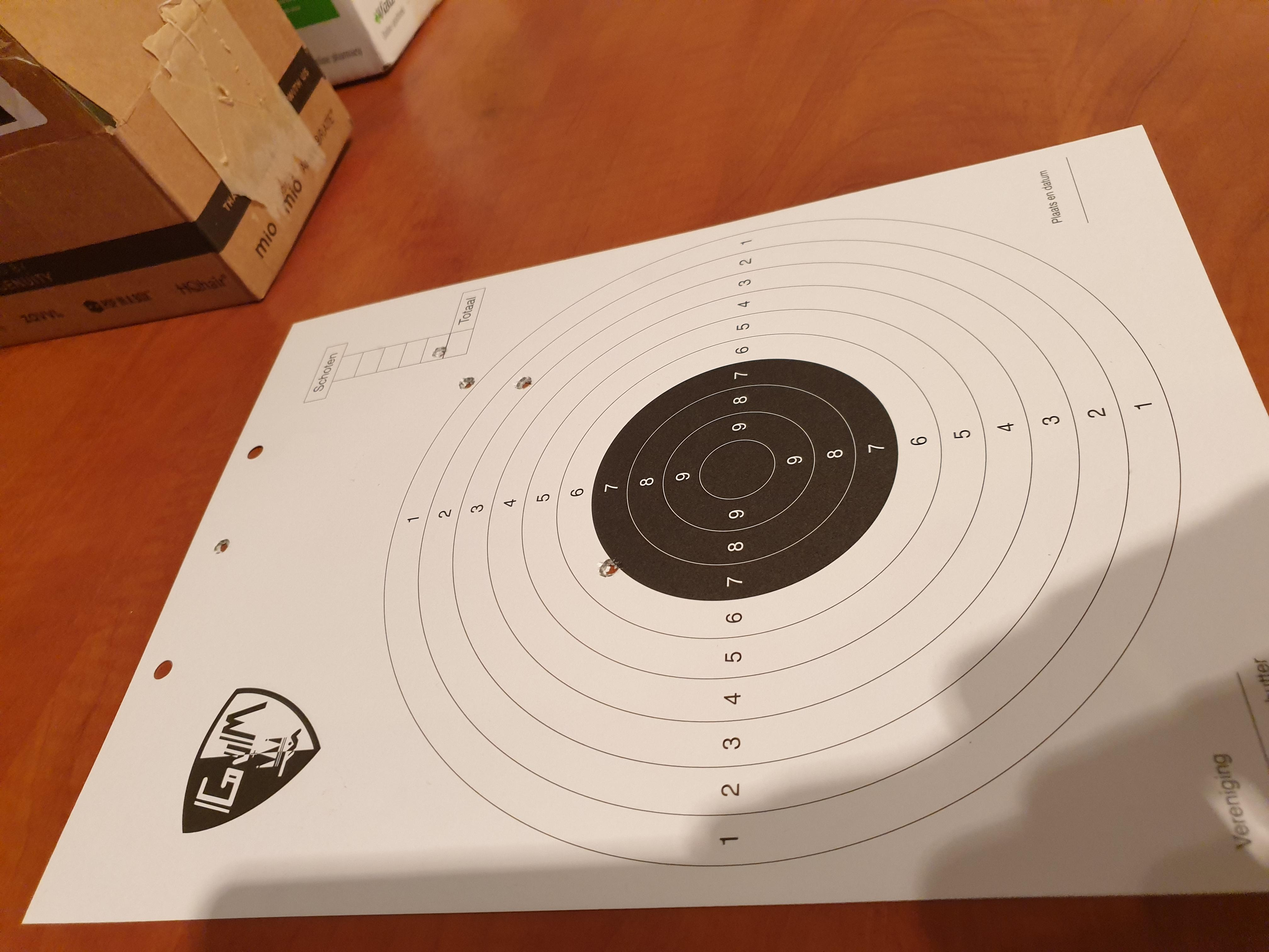hole: (497, 448, 529, 468), (528, 160, 553, 173), (749, 342, 770, 357), (748, 386, 768, 400), (790, 323, 809, 336)
